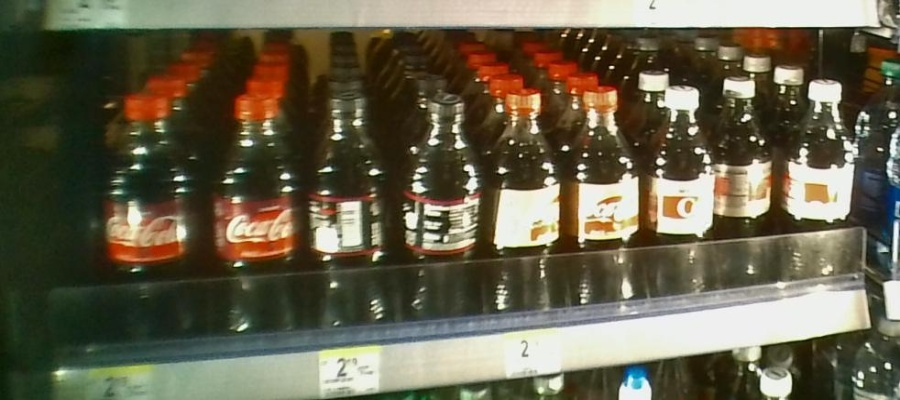bottle: (201, 93, 303, 353), (103, 83, 197, 353), (397, 84, 483, 334), (306, 84, 388, 331), (563, 78, 641, 312), (487, 84, 561, 323), (643, 79, 713, 312), (781, 77, 856, 280), (713, 76, 777, 284)
